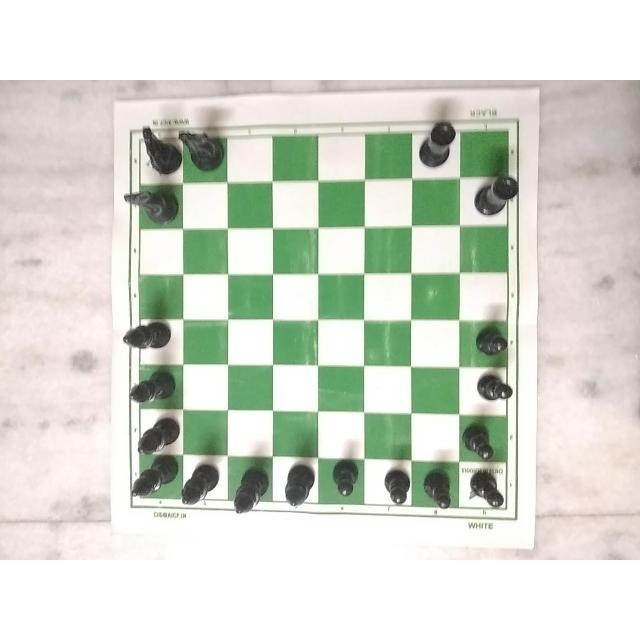black-bishop: (110, 322, 181, 363), (224, 461, 274, 517), (119, 367, 181, 412), (127, 457, 184, 503), (274, 459, 318, 517), (132, 414, 180, 465), (181, 464, 221, 510)
black-knight: (132, 120, 181, 184), (173, 126, 229, 176), (123, 181, 179, 227)
black-pawn: (464, 470, 512, 515), (454, 419, 501, 461), (470, 366, 517, 407), (379, 466, 417, 516), (472, 324, 516, 365), (420, 474, 461, 517), (327, 456, 366, 498)
black-rook: (471, 169, 523, 220), (417, 118, 461, 173)
